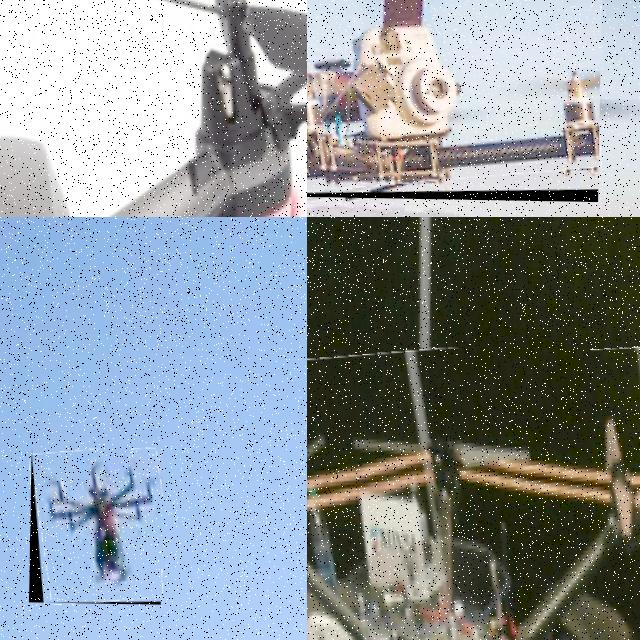drone: (307, 341, 640, 640), (0, 0, 307, 217), (307, 0, 602, 201), (29, 447, 162, 604)
